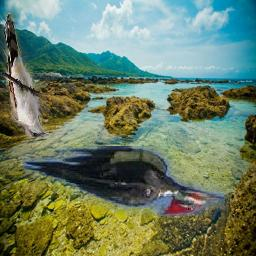Cuckoo: (1, 13, 50, 138)
Woodpecker: (23, 146, 226, 216)
